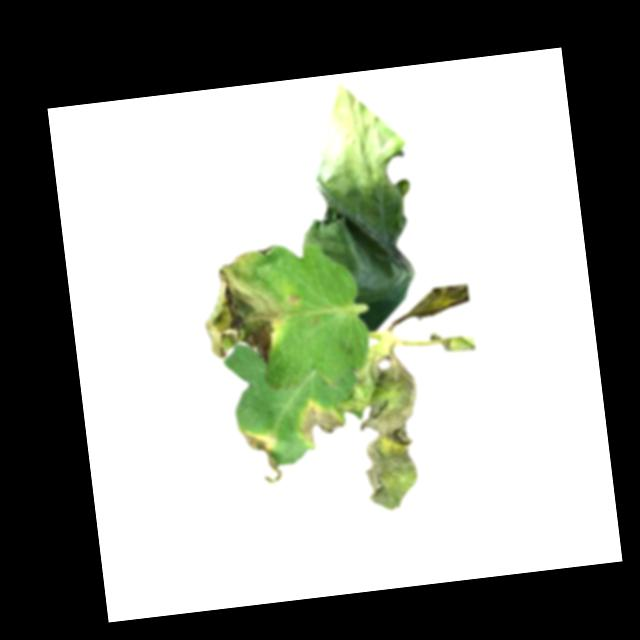Late_blight: (288, 75, 430, 337), (337, 343, 428, 513), (196, 246, 287, 370), (239, 427, 285, 485), (297, 402, 347, 451)
